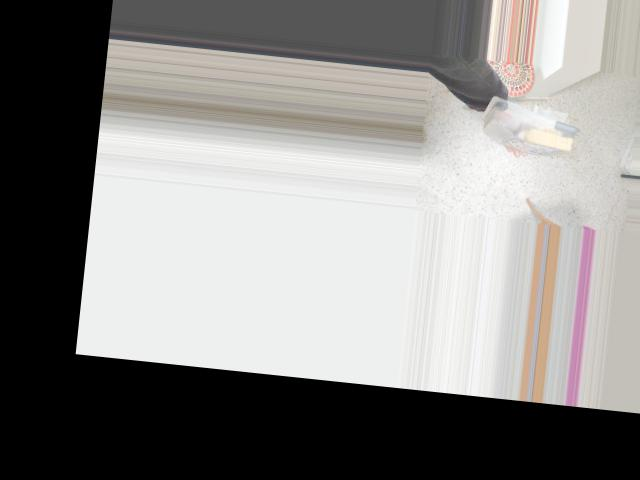cheese: (481, 92, 582, 160)
